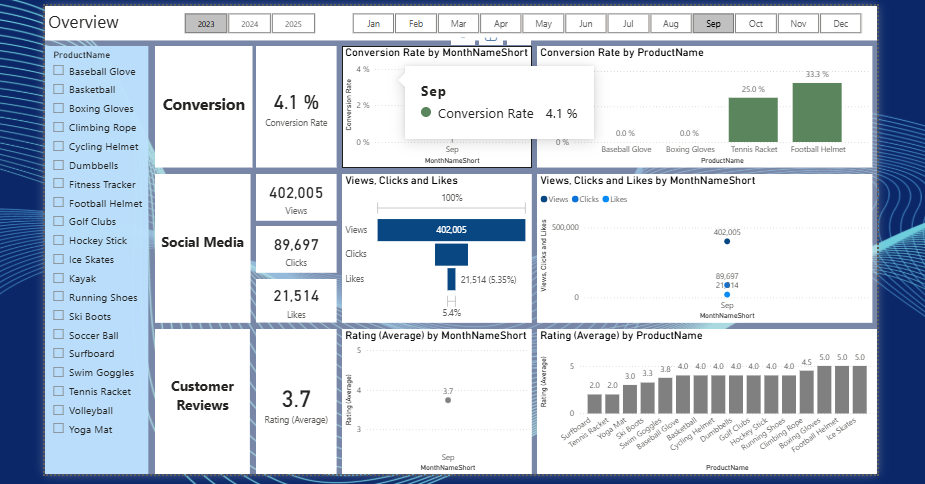

The dashboard page shown, as its layout file describes it:
{"tool":"powerbi","page":{"name":"Overview","canvas":[1280,720],"ordinal":0},"visuals":[{"type":"textbox","box":[0,0,1280,52.6],"z":0},{"type":"slicer","fields":{"Values":["dim_products.ProductName"]},"box":[0,61.6,159.5,658.5],"z":1000},{"type":"card","fields":{"Values":["_Calculations.Conversion Rate"]},"box":[324.1,61.9,123.9,186.8],"z":2000},{"type":"card","fields":{"Values":["_Calculations.Rating (Average)"]},"box":[324.1,496.5,123.9,224],"z":3000},{"type":"lineChart","fields":{"Y":["_Calculations.Conversion Rate"],"Category":["Calendar.MonthNameShort"]},"box":[457.1,61.9,292.3,186.7],"z":4000},{"type":"columnChart","fields":{"Category":["dim_products.ProductName"],"Y":["_Calculations.Conversion Rate"]},"box":[756.7,61.9,516.3,186.7],"z":5000},{"type":"slicer","fields":{"Values":["Calendar.Year"]},"box":[189.4,4.6,249.5,43.7],"z":6000},{"type":"slicer","fields":{"Values":["Calendar.MonthNameShort"]},"box":[448,4.6,832.3,43.7],"z":7000},{"type":"lineChart","fields":{"Y":["_Calculations.Views","_Calculations.Clicks","_Calculations.Likes"],"Category":["Calendar.MonthNameShort"]},"box":[756.6,258.1,516.1,229.2],"z":8000},{"type":"lineChart","fields":{"Category":["Calendar.MonthNameShort"],"Y":["_Calculations.Rating (Average)"]},"box":[457.1,496.3,292.3,224],"z":9000},{"type":"columnChart","fields":{"Category":["dim_products.ProductName"],"Y":["_Calculations.Rating (Average)"]},"box":[756.6,496.5,523.4,224],"z":10000},{"type":"funnel","fields":{"Y":["_Calculations.Views","_Calculations.Clicks","_Calculations.Likes"]},"box":[457.3,258.1,292.1,229.2],"z":11000},{"type":"card","fields":{"Values":["_Calculations.Views"]},"box":[324.2,257.7,123.8,71.9],"z":12000},{"type":"textbox","box":[168.5,61.9,150.3,186.7],"z":13000},{"type":"textbox","box":[168.5,257.7,146.6,229.5],"z":14000},{"type":"textbox","box":[168.5,496.3,145.7,224],"z":15000},{"type":"card","fields":{"Values":["_Calculations.Clicks"]},"box":[324.2,338.8,123.8,71.9],"z":16000},{"type":"card","fields":{"Values":["_Calculations.Likes"]},"box":[324.2,419.8,123.8,67.4],"z":17000}]}

Visuals, with their boxes in screenshot pixels (x1, y1, x2, y2):
textbox: left=39, top=2, right=887, bottom=37
slicer - dim_products.ProductName: left=39, top=43, right=144, bottom=480
card - _Calculations.Conversion Rate: left=253, top=43, right=336, bottom=167
card - _Calculations.Rating (Average): left=253, top=332, right=336, bottom=480
lineChart - _Calculations.Conversion Rate x Calendar.MonthNameShort: left=342, top=43, right=536, bottom=167
columnChart - dim_products.ProductName x _Calculations.Conversion Rate: left=540, top=43, right=883, bottom=167
slicer - Calendar.Year: left=164, top=5, right=330, bottom=34
slicer - Calendar.MonthNameShort: left=336, top=5, right=888, bottom=34
lineChart - _Calculations.Views x _Calculations.Clicks: left=540, top=174, right=883, bottom=326
lineChart - Calendar.MonthNameShort x _Calculations.Rating (Average): left=342, top=332, right=536, bottom=480
columnChart - dim_products.ProductName x _Calculations.Rating (Average): left=540, top=332, right=887, bottom=480
funnel - _Calculations.Views x _Calculations.Clicks: left=342, top=174, right=536, bottom=326
card - _Calculations.Views: left=254, top=173, right=336, bottom=221
textbox: left=150, top=43, right=250, bottom=167
textbox: left=150, top=173, right=248, bottom=326
textbox: left=150, top=332, right=247, bottom=480
card - _Calculations.Clicks: left=254, top=227, right=336, bottom=275
card - _Calculations.Likes: left=254, top=281, right=336, bottom=326
